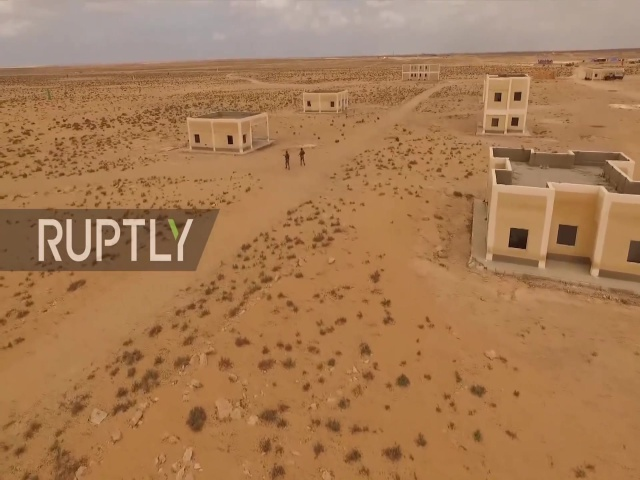person: (281, 151, 293, 172), (297, 148, 307, 167)
